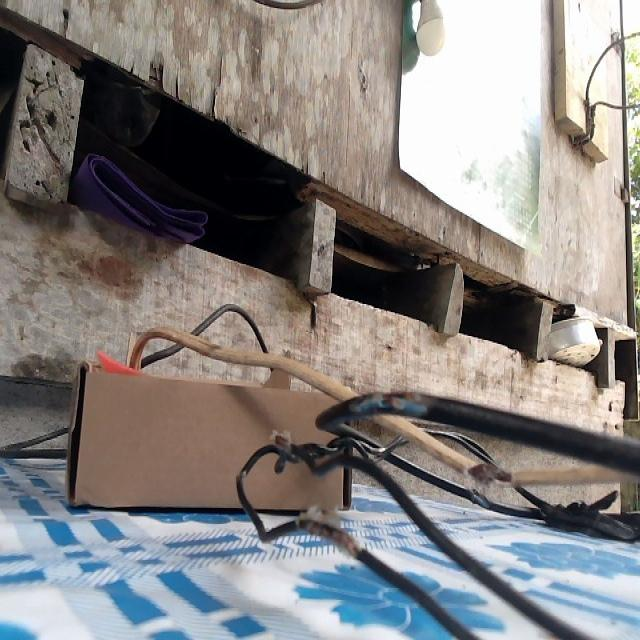-: (295, 508, 362, 556), (359, 383, 430, 417), (469, 456, 512, 488), (271, 429, 292, 454)
